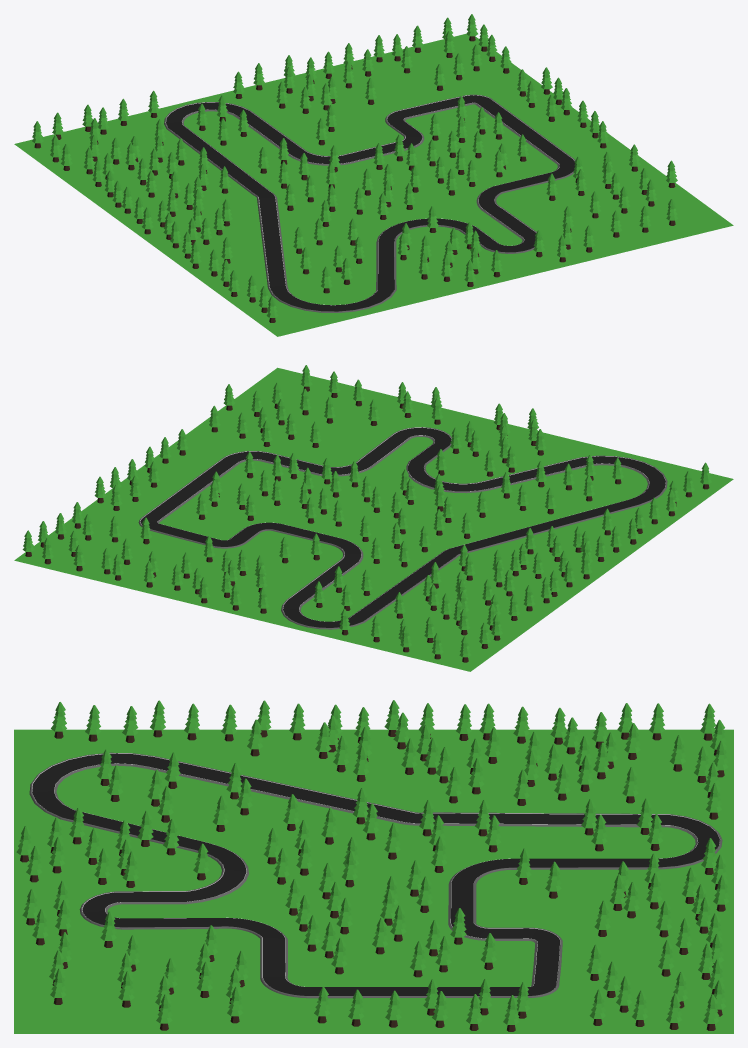
The model's file is Proga.fbx.
3 renders of one model, top to bottom at view 1: azimuth 30°, elevation 25°; view 2: azimuth 150°, elevation 25°; view 3: azimuth 270°, elevation 25°, orthographic. The views are drawn at different scales.
Visible parts, largest first — view 1: Okolica, Steza; view 2: Okolica, Steza; view 3: Okolica, Steza.
Part boxes in pixels (bbox=[...]): Okolica: bbox=[14, 14, 733, 336]; Steza: bbox=[164, 94, 575, 312]; Okolica: bbox=[14, 365, 733, 671]; Steza: bbox=[138, 427, 667, 629]; Okolica: bbox=[14, 700, 733, 1033]; Steza: bbox=[29, 752, 722, 998].
Size of the model in its own units: 262 by 14.13 by 262.
